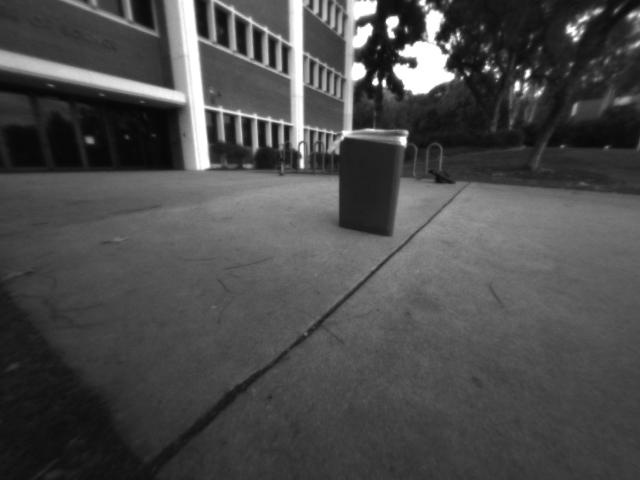trashcan_open: (334, 126, 408, 240)
